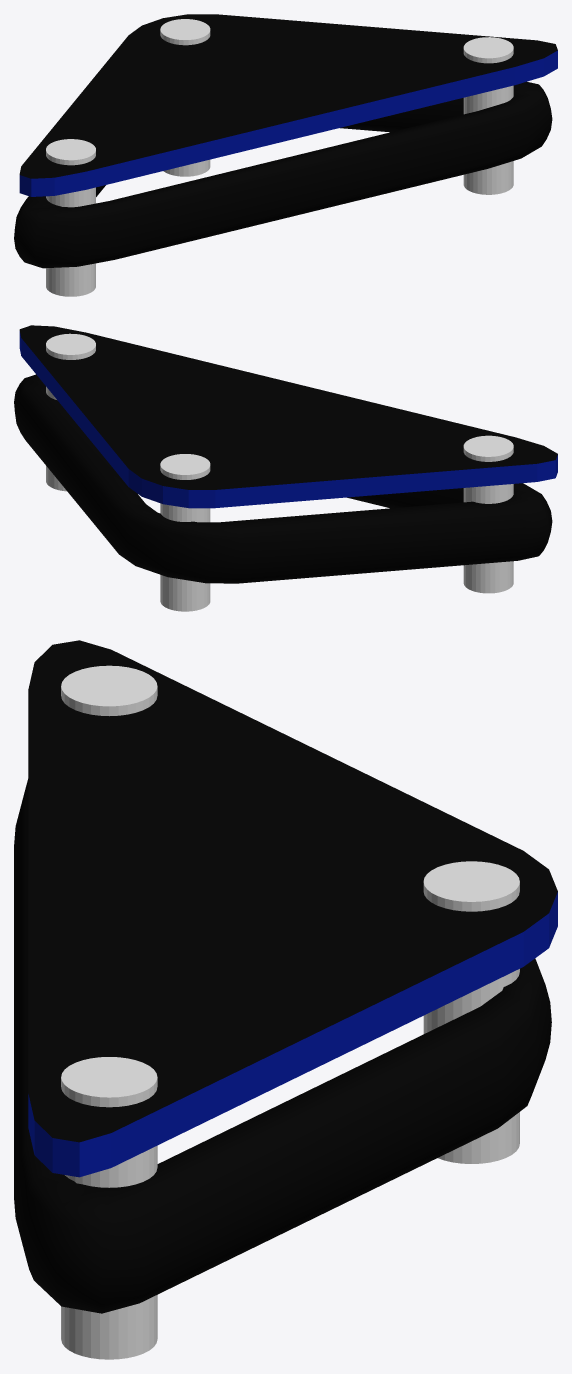
File: Bumper_T.fbx
The picture shows the model from 3 angles, top to bottom: view 1: azimuth 30°, elevation 25°; view 2: azimuth 150°, elevation 25°; view 3: azimuth 270°, elevation 25°; orthographic projection. The views are drawn at different scales.
Parts seen in each view (by area): view 1: Bumpper_T; view 2: Bumpper_T; view 3: Bumpper_T.
Part boxes in pixels (left/top/right/bottom): Bumpper_T: left=14, top=14, right=557, bottom=296; Bumpper_T: left=14, top=325, right=557, bottom=611; Bumpper_T: left=14, top=640, right=557, bottom=1359.
Size of the model in its own units: 3389 by 825 by 1552.
